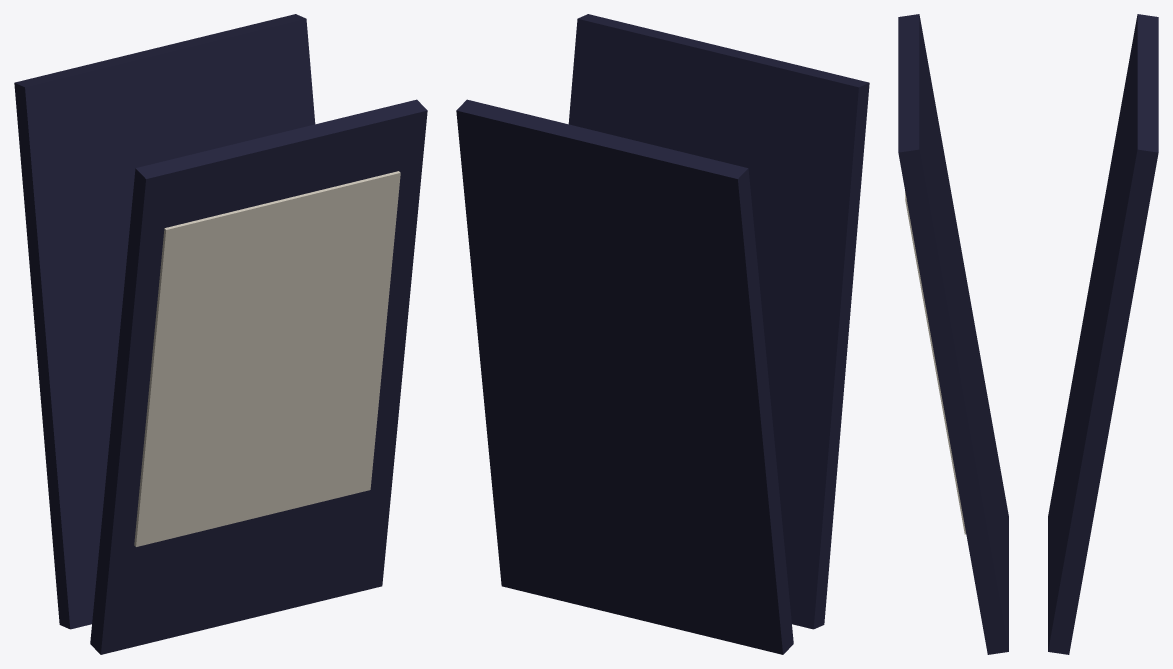
File: a_board.glb
The picture shows the model from 3 angles, left to right: view 1: azimuth 30°, elevation 25°; view 2: azimuth 150°, elevation 25°; view 3: azimuth 270°, elevation 25°; orthographic projection.
Visible parts, largest first — view 1: a_board; view 2: a_board; view 3: a_board.
Boxes of the visible parts, bbox=[...] form: a_board: bbox=[14, 14, 427, 654]; a_board: bbox=[456, 14, 869, 654]; a_board: bbox=[898, 14, 1158, 654].
Bounding box in the file's own units: 0.6 × 1.04 × 0.4868.
